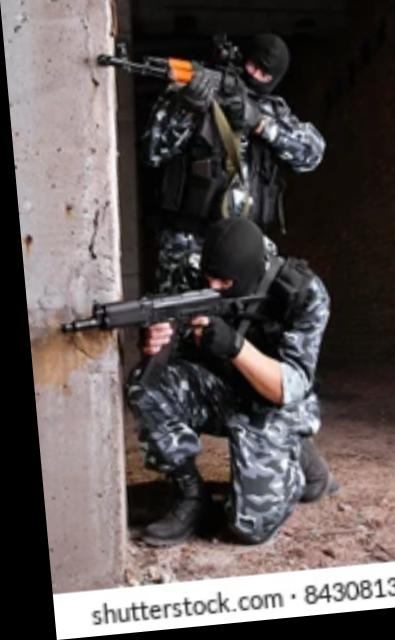other: (115, 219, 340, 551), (134, 27, 328, 240)
